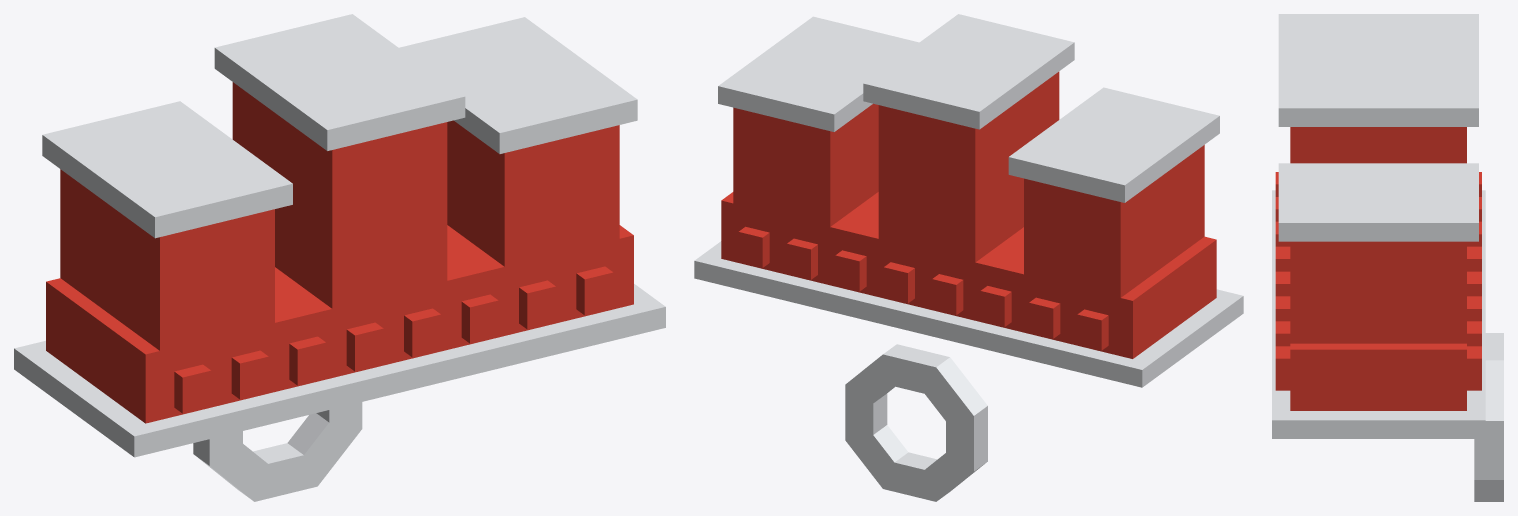
Rendered from pawn_cap-ornate.glb.
3 views of the same model, side by side, from view 1: azimuth 30°, elevation 25°; view 2: azimuth 150°, elevation 25°; view 3: azimuth 270°, elevation 25° (orthographic). The views are drawn at different scales.
Visible parts, largest first — view 1: pawn_cap-ornate; view 2: pawn_cap-ornate; view 3: pawn_cap-ornate.
Boxes of the visible parts, x1=… form: pawn_cap-ornate: x1=14, y1=14, x2=665, y2=501; pawn_cap-ornate: x1=694, y1=14, x2=1243, y2=501; pawn_cap-ornate: x1=1272, y1=14, x2=1503, y2=501.
Bounding box in the file's own units: 0.37 × 0.3071 × 0.1575.
